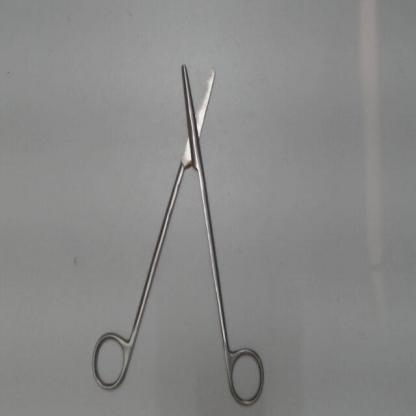9 Metzenbaum Scissors: (86, 59, 268, 412)
